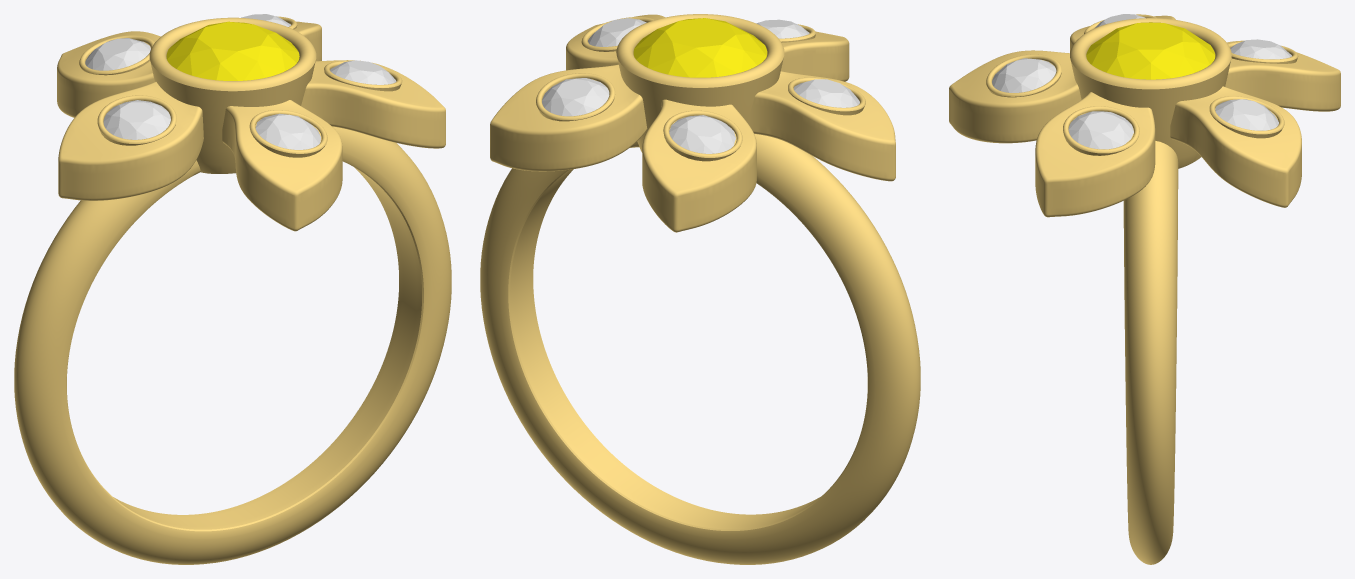
Rendered from SusanYGflower_blender.glb.
3 renders of one model, left to right at view 1: azimuth 30°, elevation 25°; view 2: azimuth 150°, elevation 25°; view 3: azimuth 270°, elevation 25°, orthographic. The views are drawn at different scales.
Parts seen in each view (by area): view 1: Susan YG for 3d model, Susan citrine for 3d model, Susan dia for 3d model.004, Susan dia for 3d model.003, Susan dia for 3d model, Susan dia for 3d model.002; view 2: Susan YG for 3d model, Susan citrine for 3d model, Susan dia for 3d model.001, Susan dia for 3d model, Susan dia for 3d model.004, Susan dia for 3d model.002, Susan dia for 3d model.003; view 3: Susan YG for 3d model, Susan citrine for 3d model, Susan dia for 3d model.002, Susan dia for 3d model.003, Susan dia for 3d model.001, Susan dia for 3d model.
Part boxes in pixels (x1=…): Susan YG for 3d model: x1=14, y1=16, x2=451, y2=564; Susan citrine for 3d model: x1=166, y1=21, x2=299, y2=80; Susan dia for 3d model.004: x1=103, y1=100, x2=170, y2=139; Susan dia for 3d model.003: x1=255, y1=113, x2=320, y2=149; Susan dia for 3d model: x1=85, y1=38, x2=150, y2=70; Susan dia for 3d model.002: x1=330, y1=60, x2=396, y2=84; Susan YG for 3d model: x1=480, y1=14, x2=920, y2=564; Susan citrine for 3d model: x1=633, y1=18, x2=767, y2=77; Susan dia for 3d model.001: x1=542, y1=78, x2=609, y2=116; Susan dia for 3d model: x1=669, y1=115, x2=735, y2=153; Susan dia for 3d model.004: x1=793, y1=79, x2=859, y2=107; Susan dia for 3d model.002: x1=588, y1=18, x2=646, y2=46; Susan dia for 3d model.003: x1=756, y1=19, x2=809, y2=38; Susan YG for 3d model: x1=949, y1=14, x2=1340, y2=564; Susan citrine for 3d model: x1=1086, y1=22, x2=1215, y2=79; Susan dia for 3d model.002: x1=1068, y1=111, x2=1133, y2=149; Susan dia for 3d model.003: x1=992, y1=58, x2=1056, y2=92; Susan dia for 3d model.001: x1=1215, y1=99, x2=1278, y2=130; Susan dia for 3d model: x1=1230, y1=39, x2=1291, y2=59.
Size of the model in its own units: 22.16 by 25.51 by 17.9.
